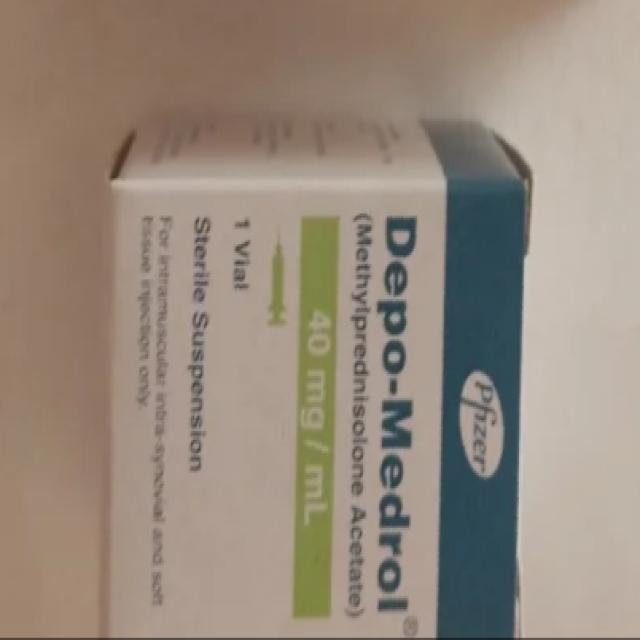drug-name: (378, 212, 422, 612)
